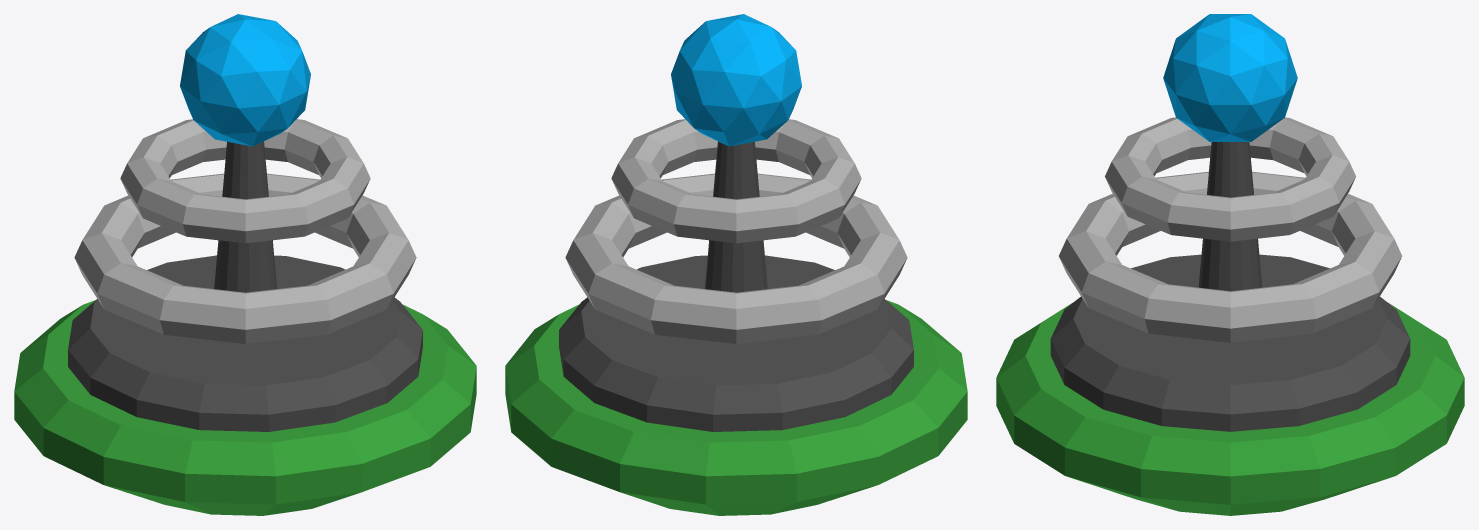
File: tesla_cannon.fbx
The picture shows the model from 3 angles, left to right: view 1: azimuth 30°, elevation 25°; view 2: azimuth 150°, elevation 25°; view 3: azimuth 270°, elevation 25°; orthographic projection.
Parts seen in each view (by area): view 1: Cylinder.032, Circle.013, Circle.014, Icosphere.001; view 2: Cylinder.032, Circle.013, Circle.014, Icosphere.001; view 3: Cylinder.032, Circle.013, Circle.014, Icosphere.001.
Boxes of the visible parts, x1=… form: Cylinder.032: x1=14, y1=141, x2=476, y2=515; Circle.013: x1=74, y1=173, x2=416, y2=343; Circle.014: x1=120, y1=119, x2=370, y2=243; Icosphere.001: x1=180, y1=14, x2=310, y2=146; Cylinder.032: x1=505, y1=141, x2=967, y2=515; Circle.013: x1=565, y1=173, x2=907, y2=343; Circle.014: x1=611, y1=119, x2=861, y2=243; Icosphere.001: x1=671, y1=14, x2=801, y2=146; Cylinder.032: x1=996, y1=142, x2=1464, y2=515; Circle.013: x1=1059, y1=171, x2=1401, y2=342; Circle.014: x1=1105, y1=117, x2=1355, y2=241; Icosphere.001: x1=1163, y1=14, x2=1297, y2=141.
Bounding box in the file's own units: 109 × 114 × 109.
